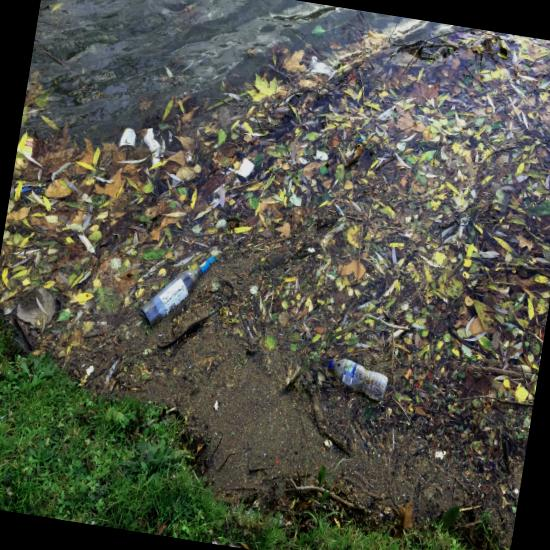Clear plastic bottle: (328, 358, 387, 401)
Glass bottle: (139, 255, 215, 328)
Other plastic: (16, 131, 44, 168), (21, 183, 45, 192)
Unlabeled litter: (117, 127, 135, 148)
